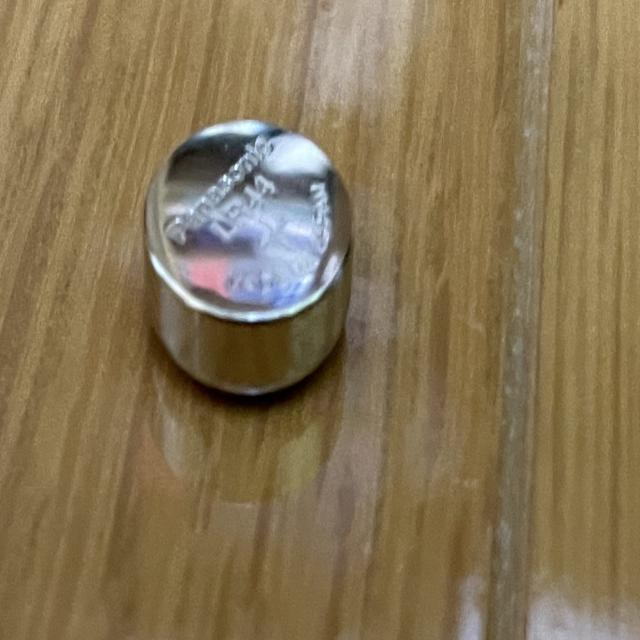COIN: (142, 117, 356, 401)
